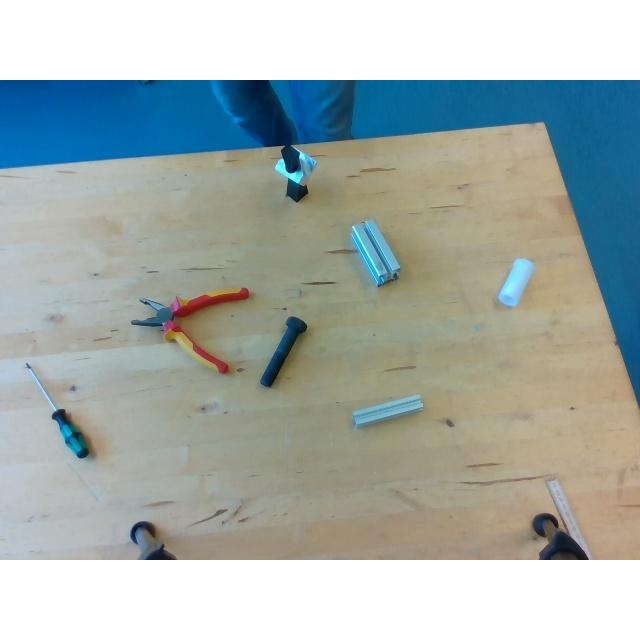F20_20_G: (352, 394, 422, 426)
M20_100: (259, 316, 309, 388)
S40_40_G: (351, 220, 399, 284)
Screwdriver: (24, 362, 90, 456)
Spacer: (497, 258, 535, 306)
